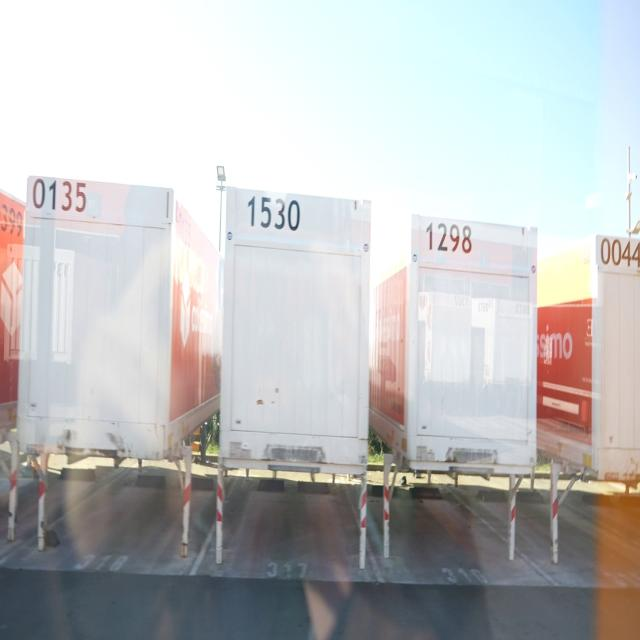Code: (244, 186, 303, 240), (28, 172, 89, 224), (421, 211, 478, 266), (596, 232, 640, 279)
